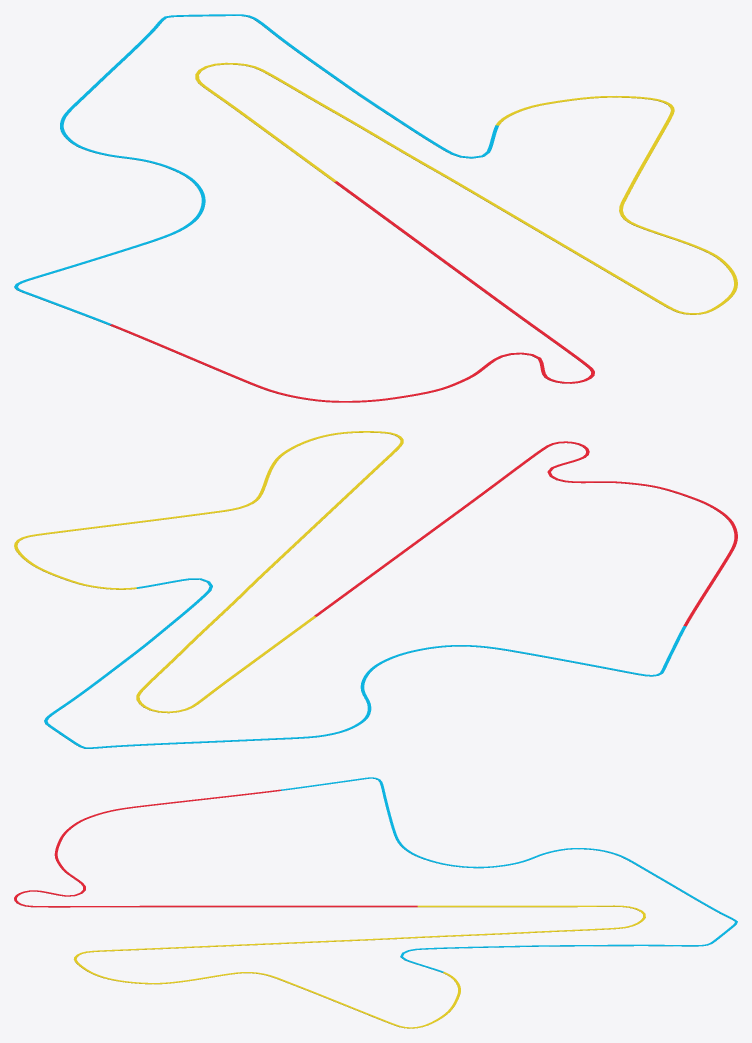
The model's file is SepangSectors.glb.
3 renders of one model, top to bottom at view 1: azimuth 30°, elevation 25°; view 2: azimuth 150°, elevation 25°; view 3: azimuth 270°, elevation 25°, orthographic. The views are drawn at different scales.
Parts seen in each view (by area): view 1: SectorStrip_3, SectorStrip_2, SectorStrip_1; view 2: SectorStrip_3, SectorStrip_2, SectorStrip_1; view 3: SectorStrip_3, SectorStrip_2, SectorStrip_1.
Boxes of the visible parts, x1,y1,x2,y2 form: SectorStrip_3: [195, 62, 737, 314]; SectorStrip_2: [14, 14, 498, 325]; SectorStrip_1: [109, 181, 594, 402]; SectorStrip_3: [14, 431, 403, 713]; SectorStrip_2: [44, 578, 686, 748]; SectorStrip_1: [314, 441, 737, 626]; SectorStrip_3: [74, 905, 645, 1028]; SectorStrip_2: [281, 777, 737, 972]; SectorStrip_1: [14, 789, 417, 907].
Bounding box in the file's own units: 15.9 × 0.006 × 19.35.
